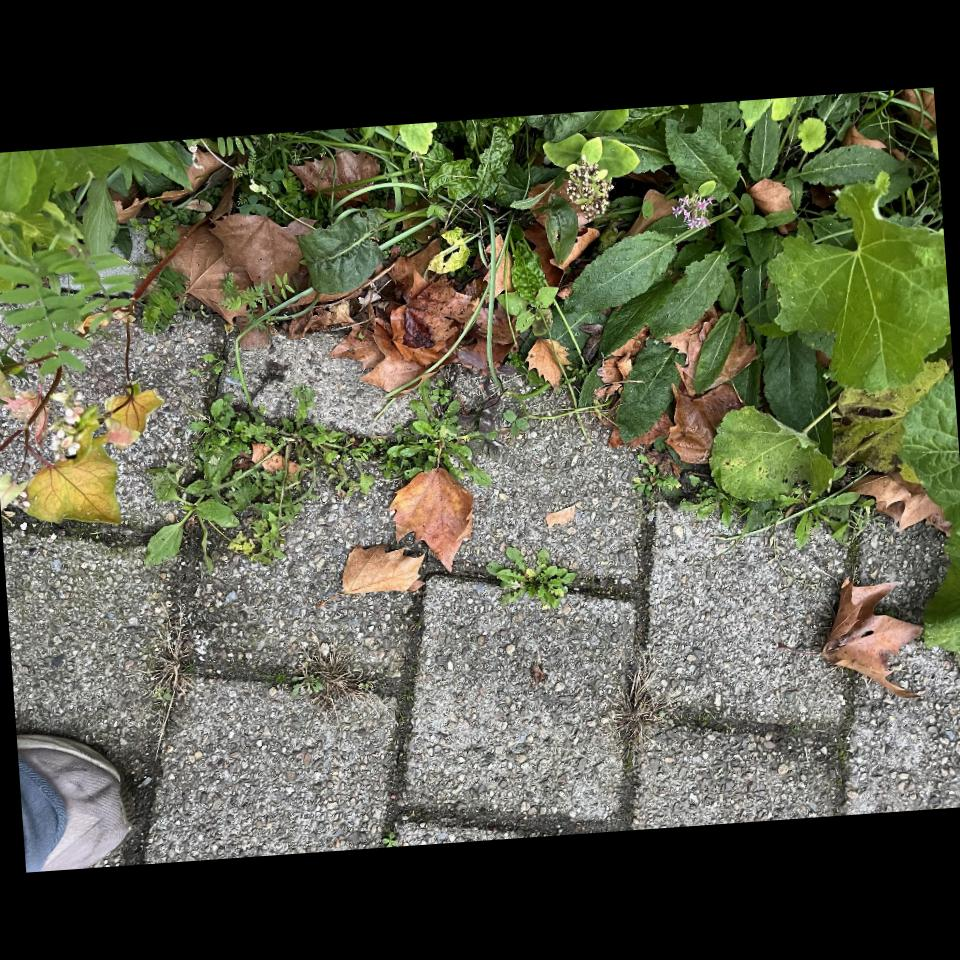weed: (146, 384, 395, 564), (384, 385, 491, 485), (488, 547, 576, 608)
